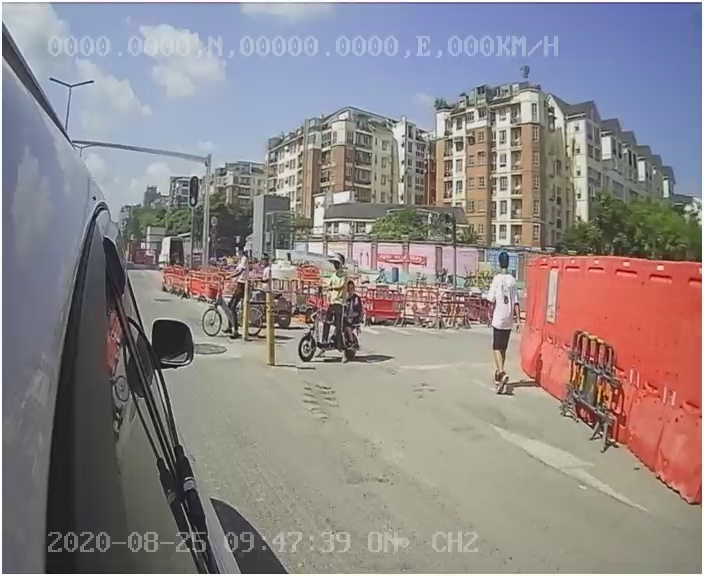person: (477, 247, 532, 402)
